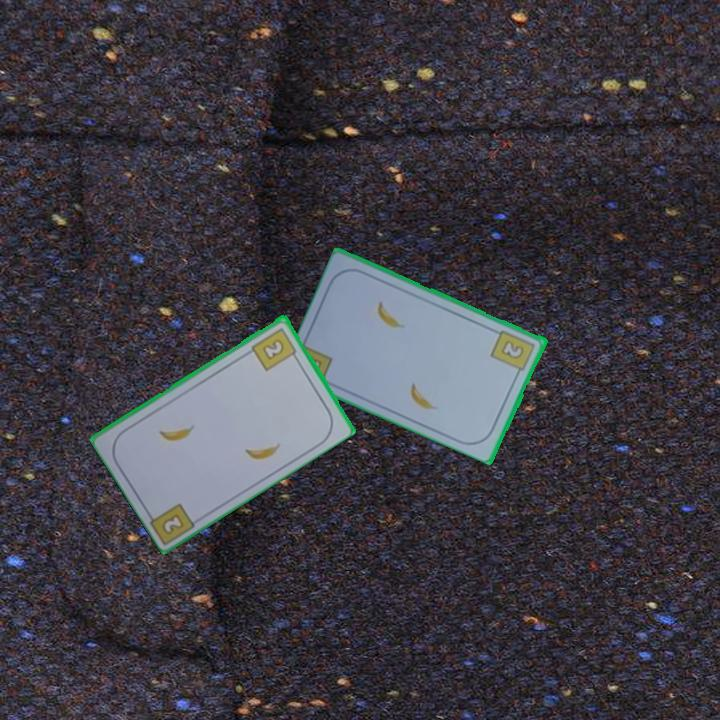2b: (488, 326, 538, 378), (248, 324, 301, 373), (158, 510, 187, 537)
